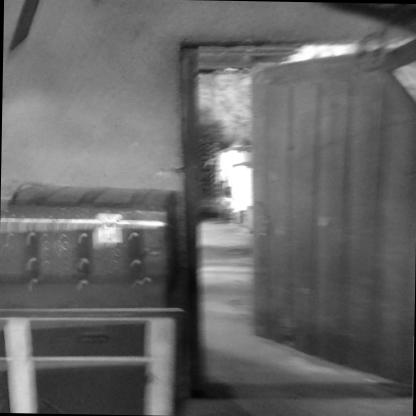semi: (171, 27, 416, 396)
